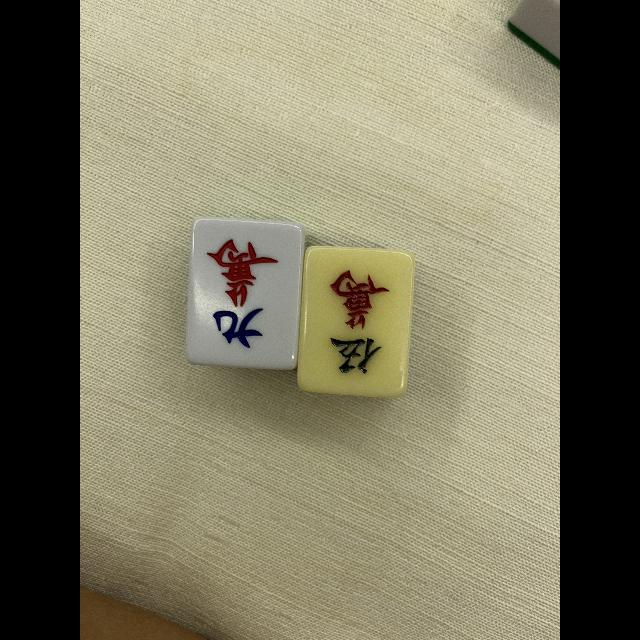c5: (304, 248, 406, 392)
c9: (190, 220, 296, 364)
